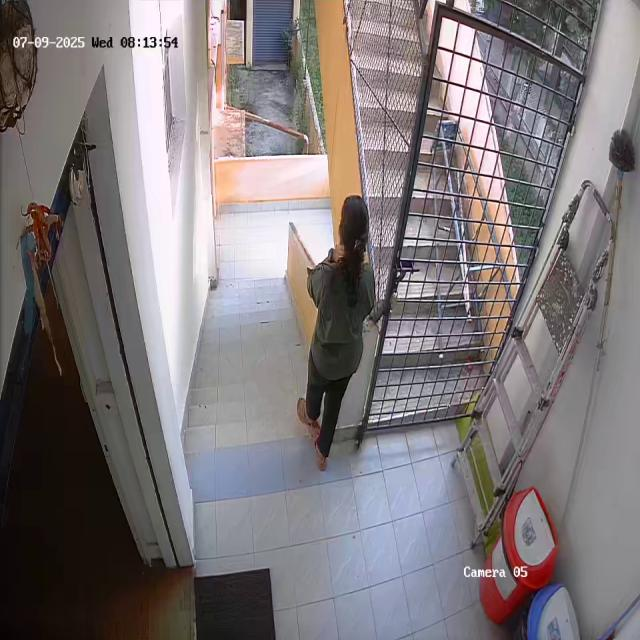person: (294, 191, 376, 467)
